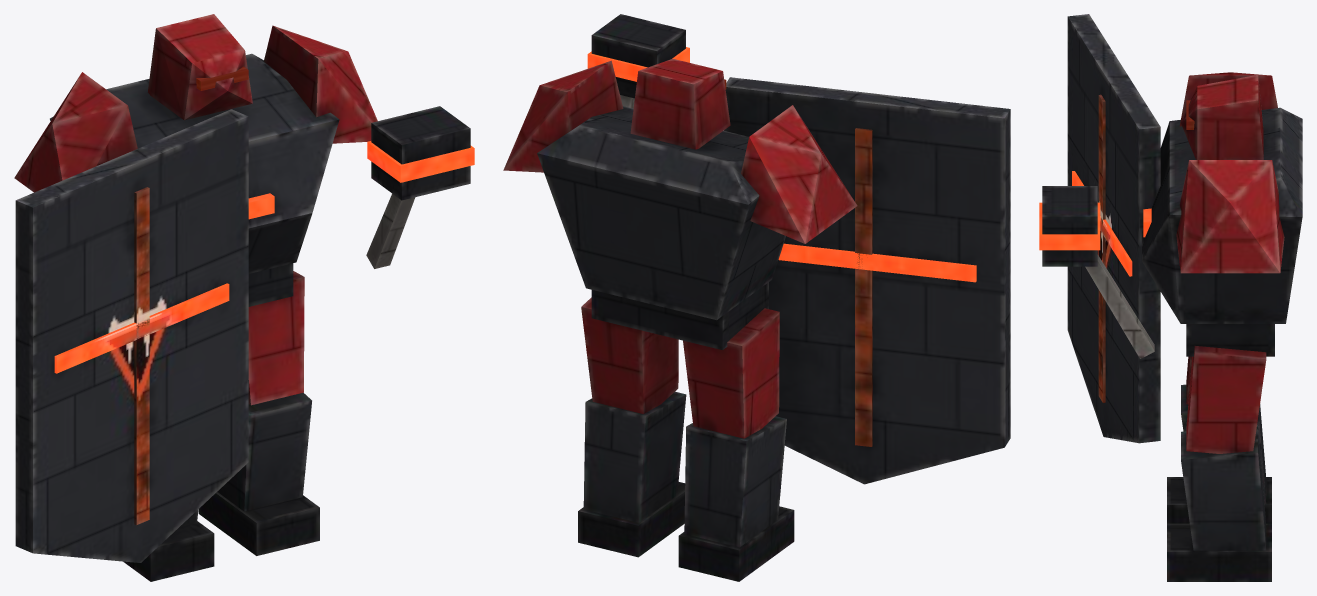
File: u_sentinel1_e.glb
3 views of the same model, side by side, from view 1: azimuth 30°, elevation 25°; view 2: azimuth 150°, elevation 25°; view 3: azimuth 270°, elevation 25° (orthographic). The views are drawn at different scales.
Parts seen in each view (by area): view 1: u_sentinel1_e; view 2: u_sentinel1_e; view 3: u_sentinel1_e.
Part boxes in pixels (bbox=[...]): u_sentinel1_e: bbox=[14, 14, 474, 581]; u_sentinel1_e: bbox=[503, 14, 1010, 581]; u_sentinel1_e: bbox=[1039, 14, 1302, 581].
Size of the model in its own units: 1.83 by 2.04 by 1.06.
1 material, 1 textured.
